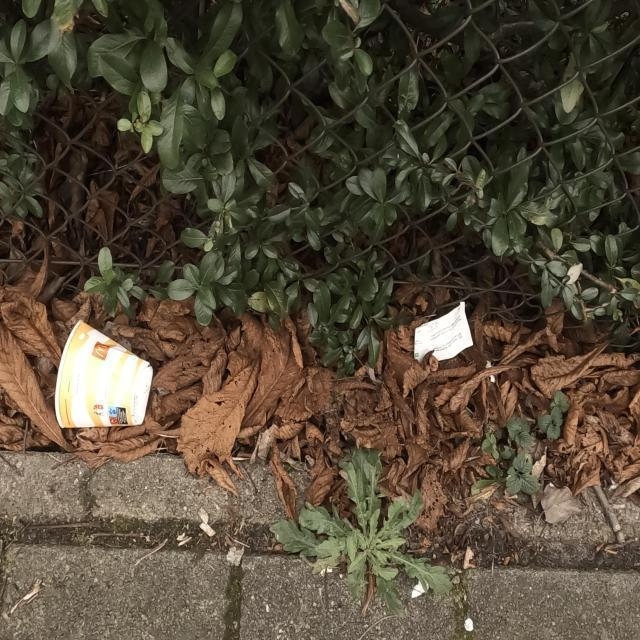Cup: (54, 319, 160, 433)
Paper: (410, 306, 472, 360)
